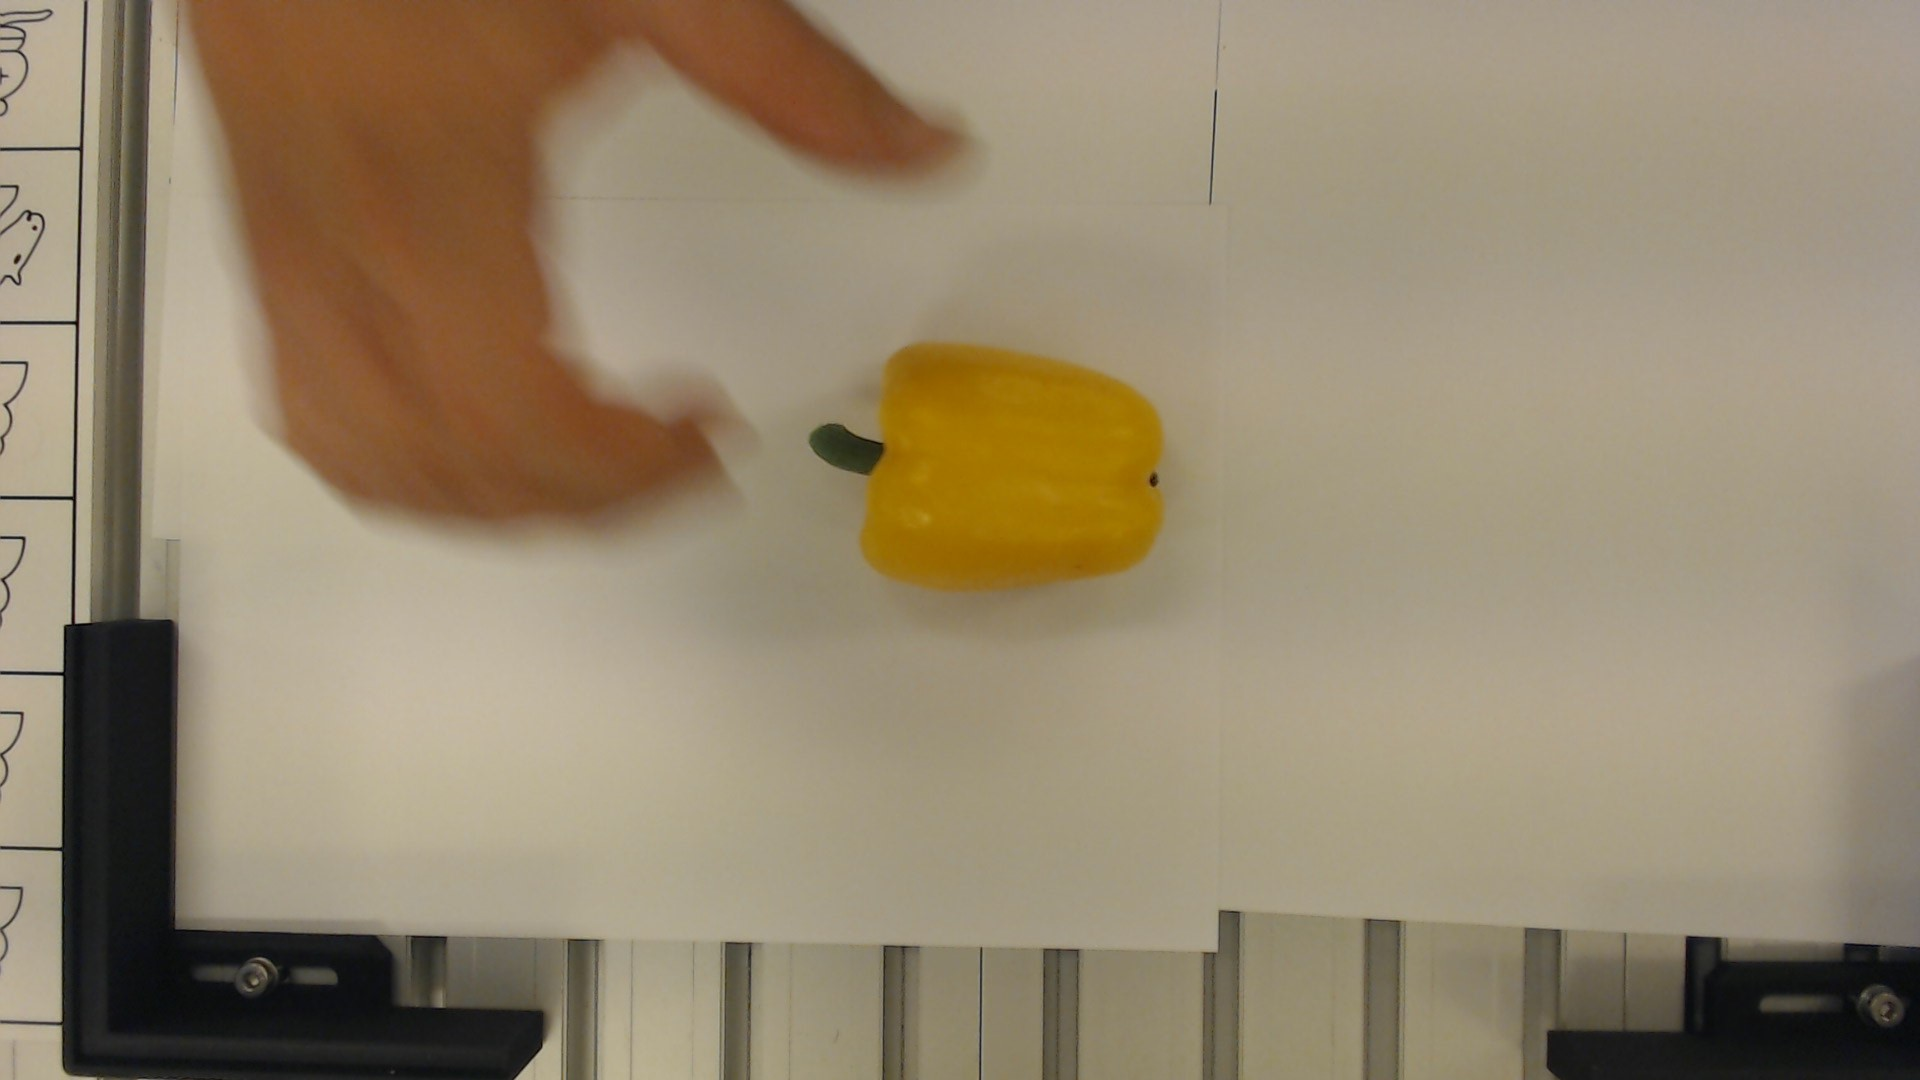Yellow Bell Pepper: (800, 342, 1167, 596)
